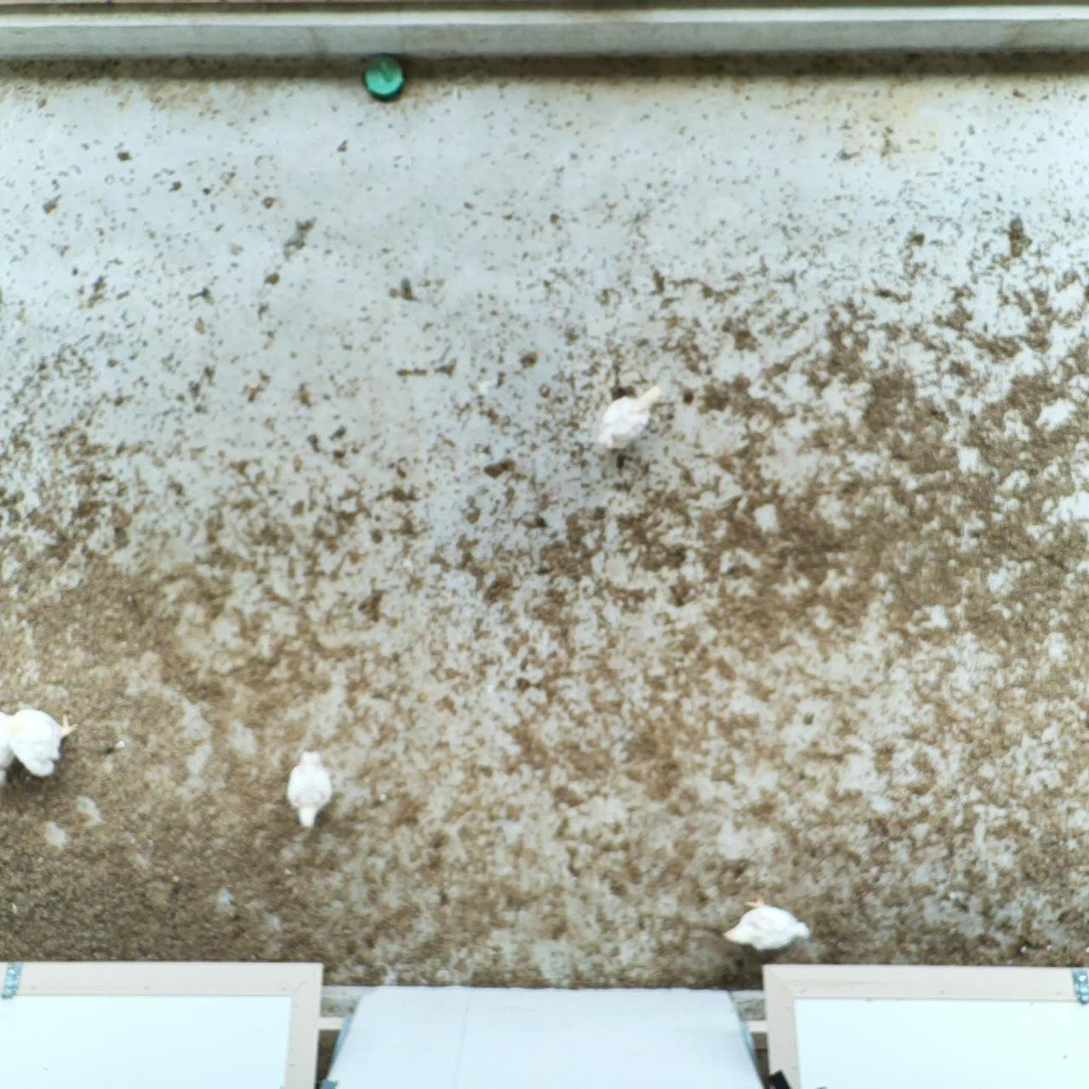chicken: (6, 701, 83, 779), (592, 379, 667, 459), (721, 893, 815, 956), (280, 743, 332, 831), (0, 702, 18, 784)
